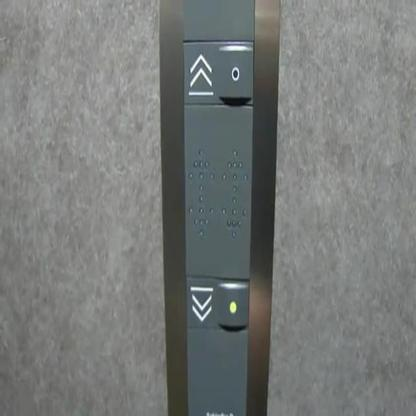down: (184, 270, 250, 334)
up: (180, 34, 254, 112)
